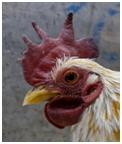AbNormal: (21, 14, 98, 87)
